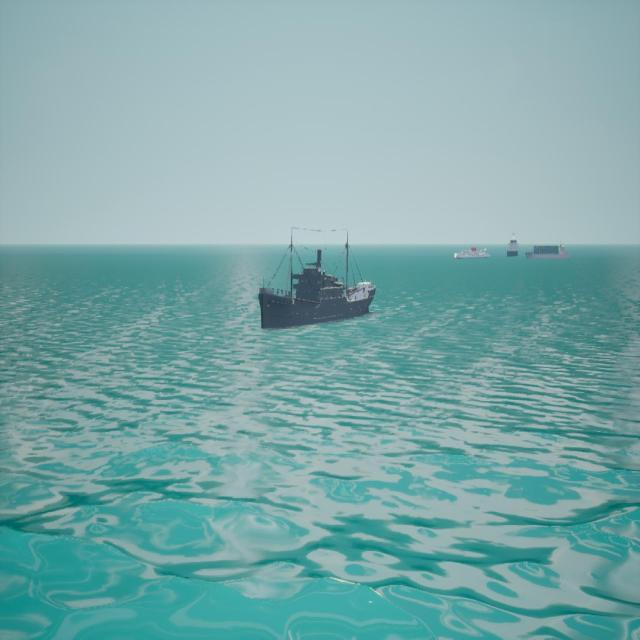fishing ship: (260, 229, 377, 330)
